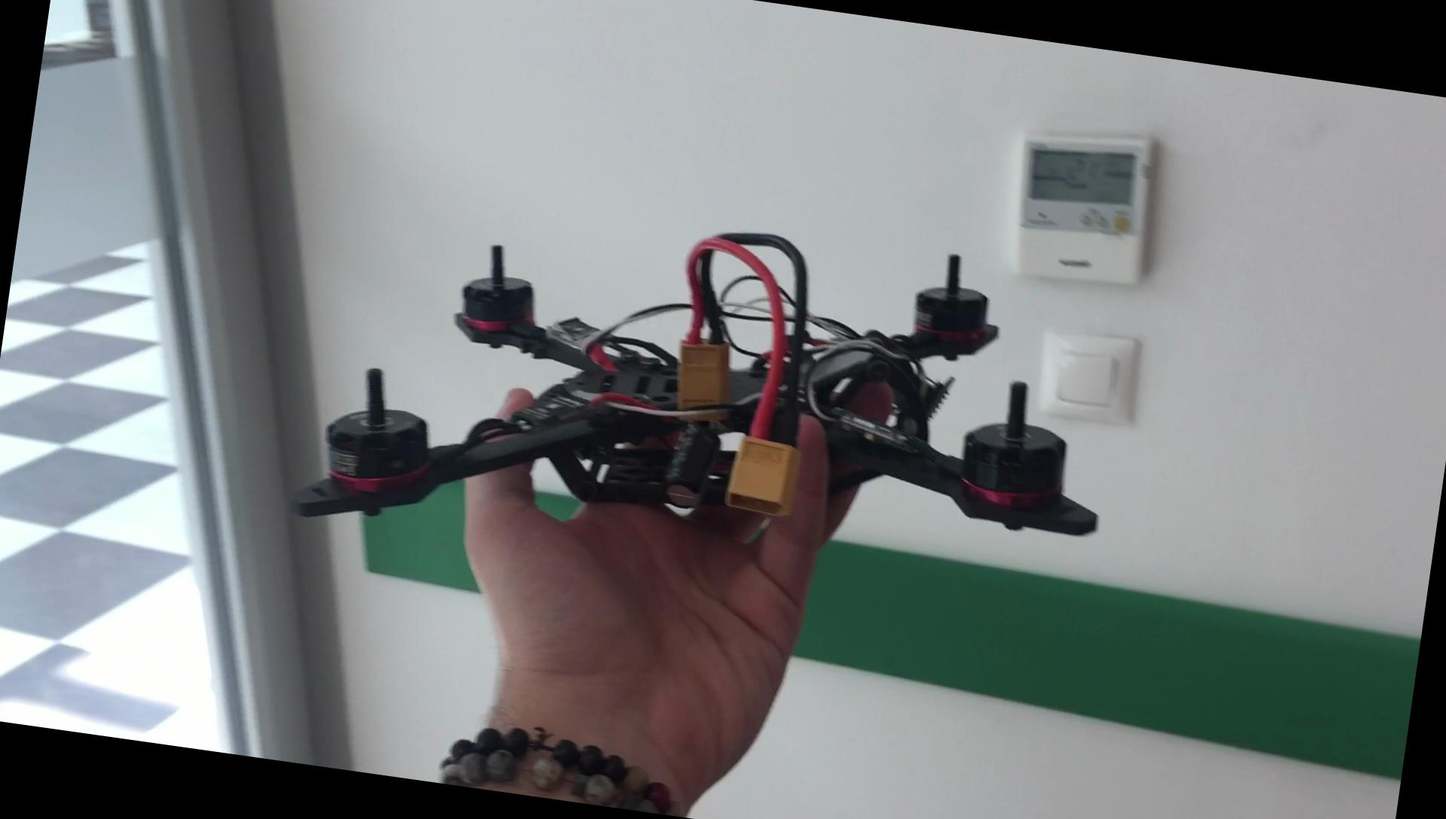drone: (282, 175, 1157, 631)
